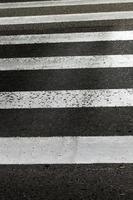faded_road_lines: (0, 29, 133, 48), (0, 89, 132, 108), (0, 55, 133, 70)
